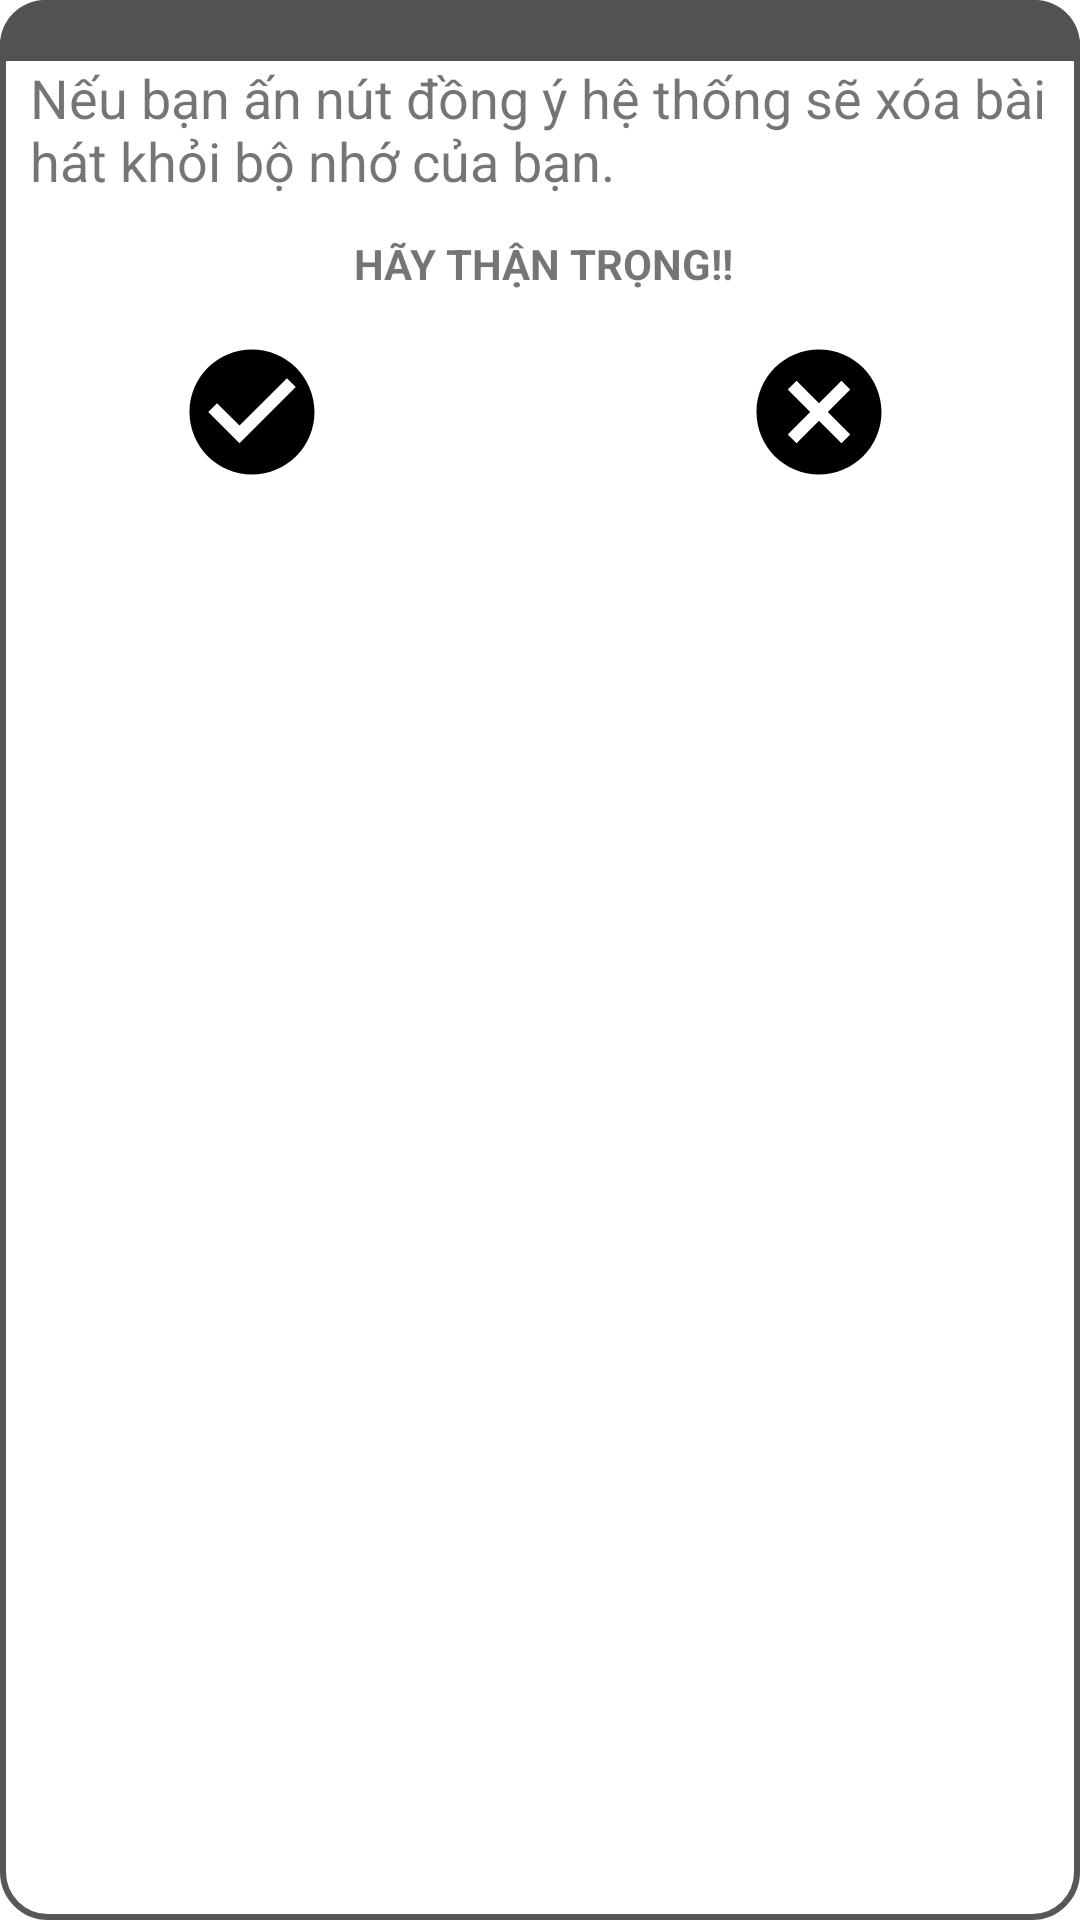

Screen size 1080*1920. Icon name, then its center in pixels as point (x, y):
cancel: point (819, 412)
check circle: point (252, 412)
